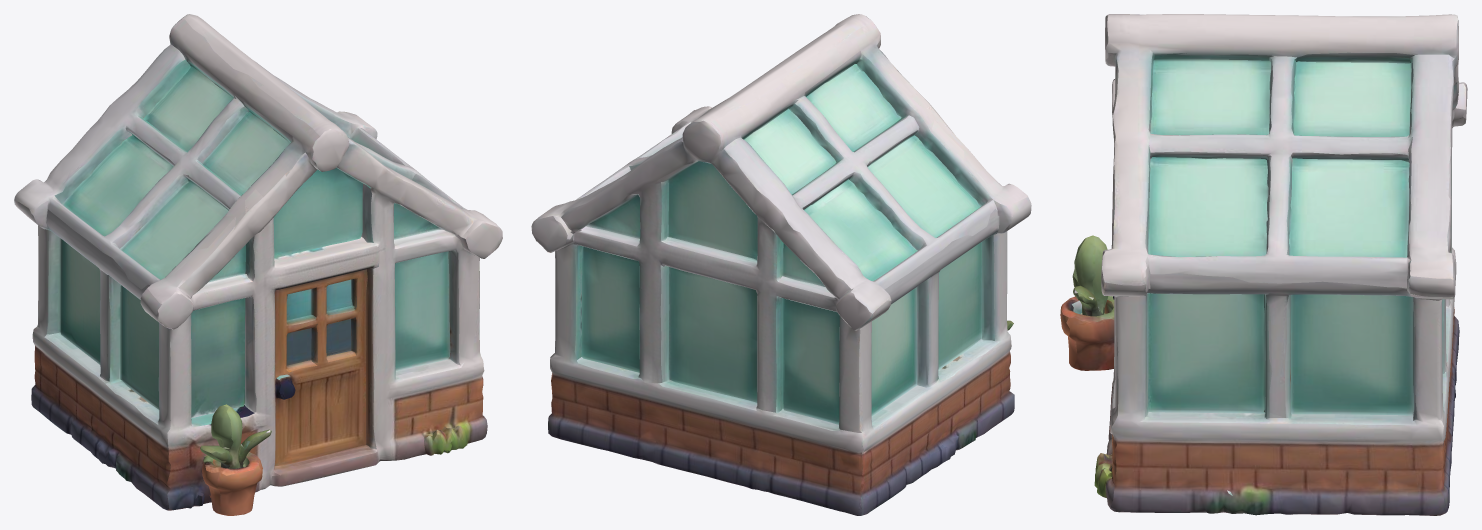
File: greenhouse.glb
3 views of the same model, side by side, from view 1: azimuth 30°, elevation 25°; view 2: azimuth 150°, elevation 25°; view 3: azimuth 270°, elevation 25° (orthographic). The views are drawn at different scales.
Parts seen in each view (by area): view 1: greenhouse_s15; view 2: greenhouse_s15; view 3: greenhouse_s15.
Boxes of the visible parts, x1,y1,x2,y2 form: greenhouse_s15: [14, 14, 502, 515]; greenhouse_s15: [531, 14, 1031, 515]; greenhouse_s15: [1060, 14, 1467, 515].
Bounding box in the file's own units: 1 × 0.9686 × 0.8684.
1 material, 1 textured.
